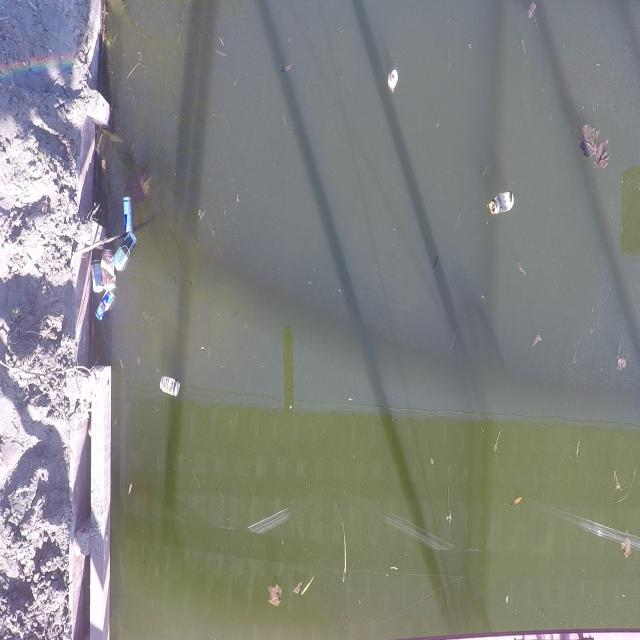Non plastique: (112, 225, 143, 285), (92, 287, 123, 330), (98, 243, 120, 294), (155, 371, 184, 402), (119, 189, 137, 237), (489, 186, 516, 218), (89, 257, 104, 296), (386, 67, 400, 95)
